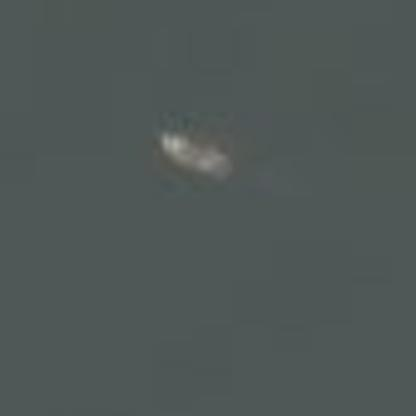ship: (147, 112, 237, 198)
